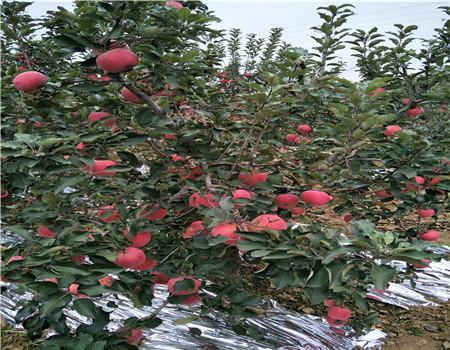apple: (93, 47, 137, 75), (12, 71, 48, 92), (249, 214, 288, 232), (115, 247, 146, 268), (299, 189, 331, 206), (328, 304, 351, 322), (275, 192, 299, 209)
